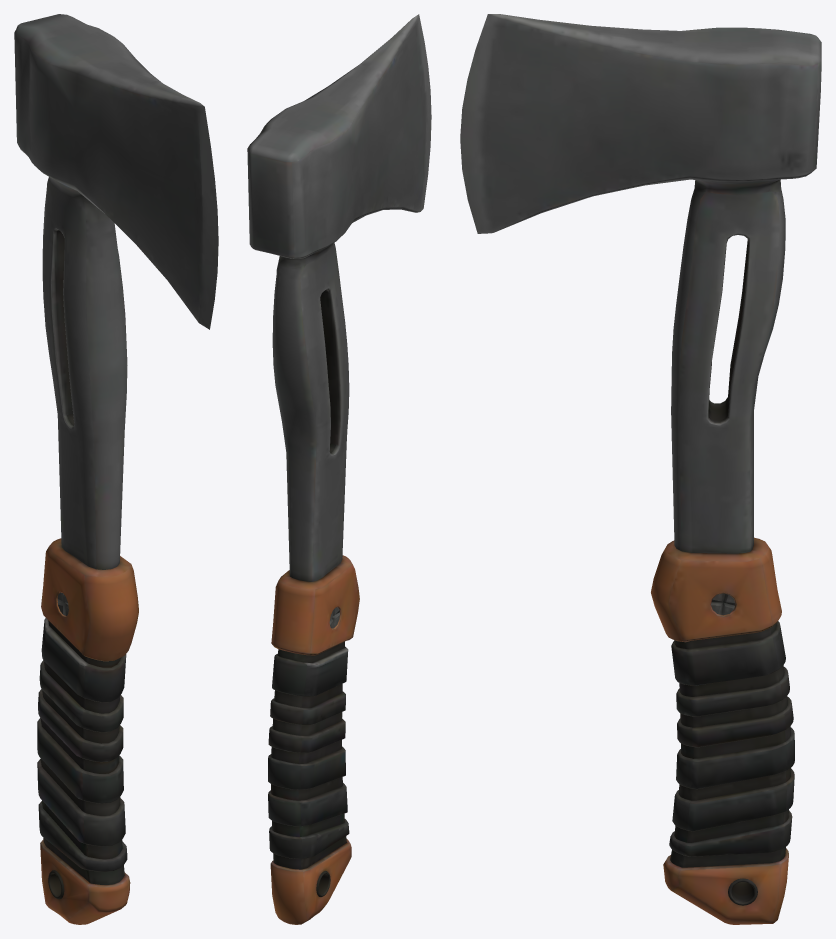
Rendered from hatchet.glb.
3 views of the same model, side by side, from view 1: azimuth 30°, elevation 25°; view 2: azimuth 150°, elevation 25°; view 3: azimuth 270°, elevation 25° (orthographic). The views are drawn at different scales.
Parts seen in each view (by area): view 1: hatchet; view 2: hatchet; view 3: hatchet.
Part boxes in pixels (<box>): hatchet: <box>14,14,218,924</box>; hatchet: <box>247,14,431,924</box>; hatchet: <box>460,14,821,924</box>.
Size of the model in its own units: 0.026 by 0.2887 by 0.1043.
1 material, 1 textured.
